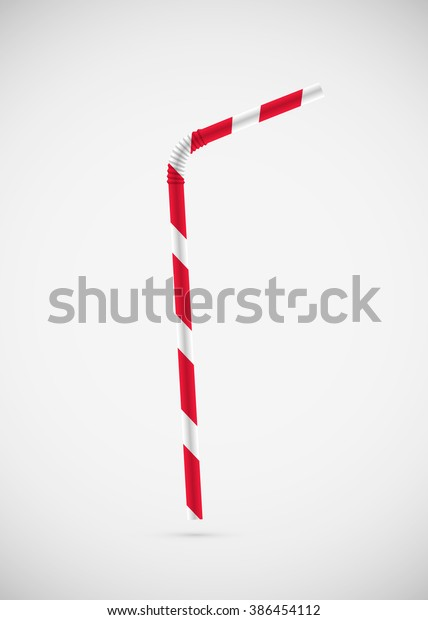Drinking Straw: (163, 80, 329, 525)
